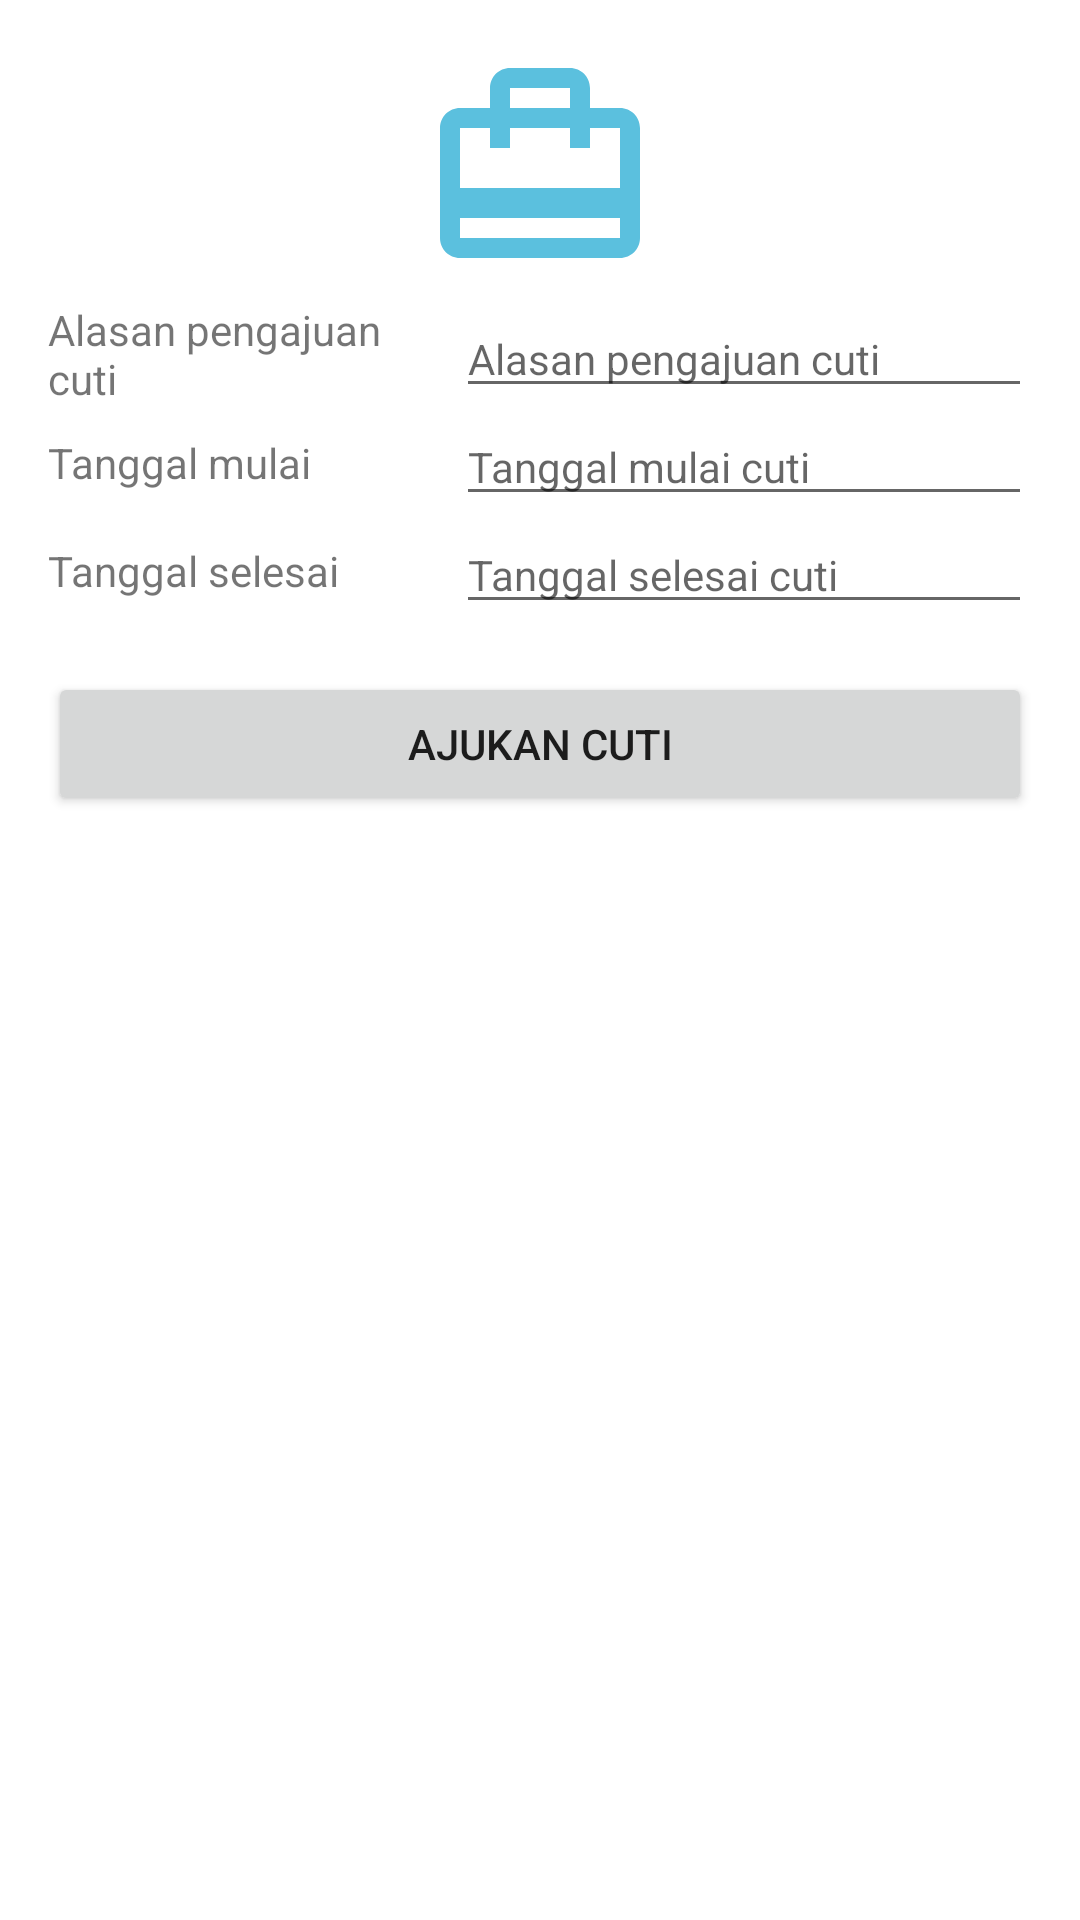

Where icons sit on this 1080x1920 app screen, as {"left": x1, "top": y1, "right": x2, "bottom": y2}:
travel info: {"left": 440, "top": 68, "right": 640, "bottom": 258}
